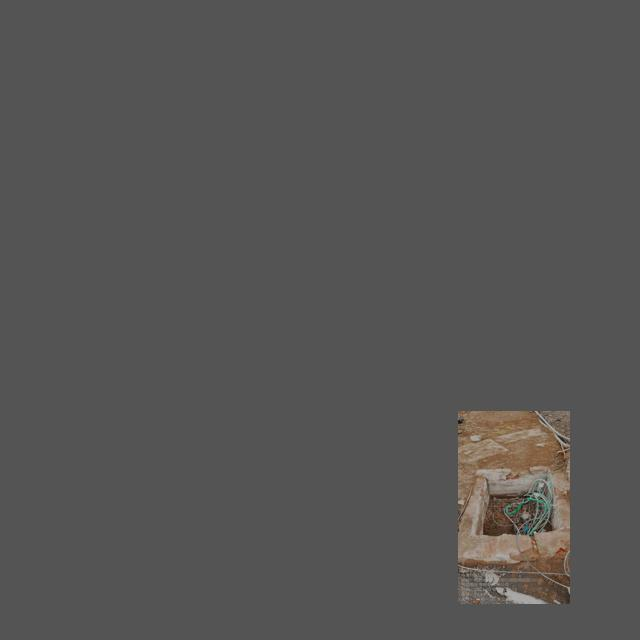lose: (470, 471, 565, 537)
